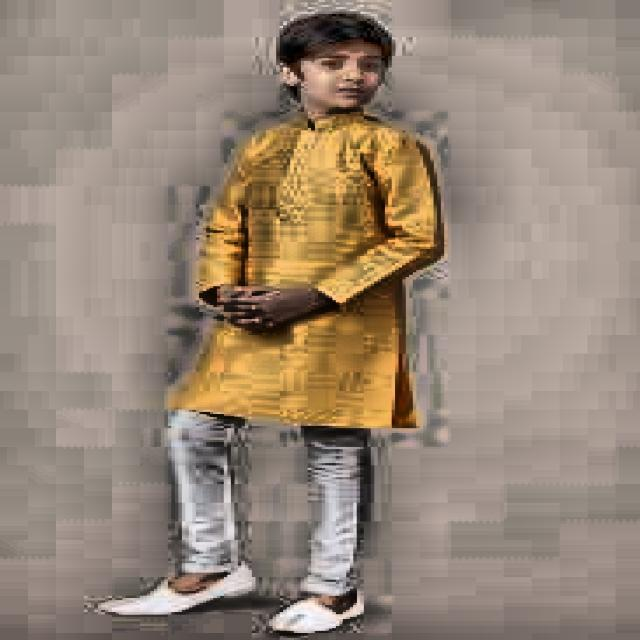Human: (161, 18, 420, 640)
